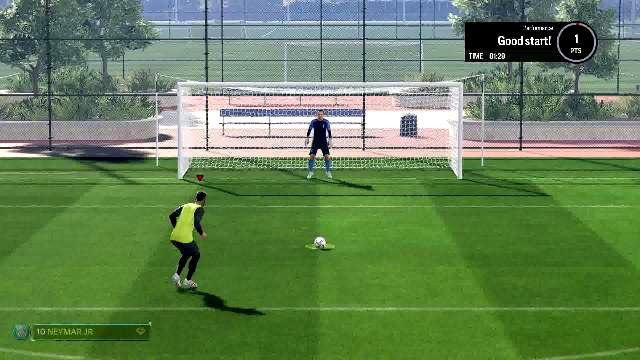bottom-left: (184, 134, 274, 180)
bottom-right: (364, 135, 454, 179)
center-down: (272, 134, 366, 178)
center-up: (274, 86, 368, 132)
circle: (306, 244, 336, 250)
football: (313, 236, 329, 250)
goalkeeper: (304, 107, 338, 179)
player: (165, 186, 218, 294)
top-left: (183, 90, 273, 134)
top-right: (365, 88, 455, 134)
